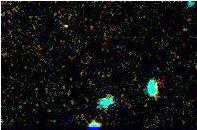star: (51, 14, 81, 44)
